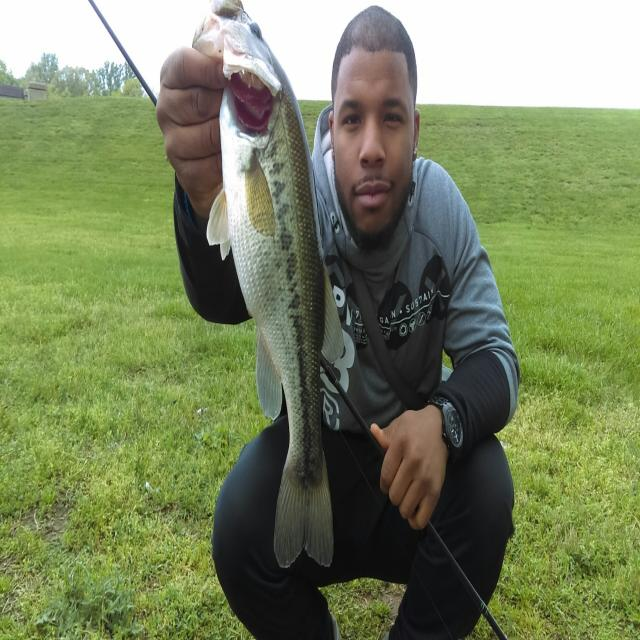Bass - Largemouth: (193, 0, 343, 567)
